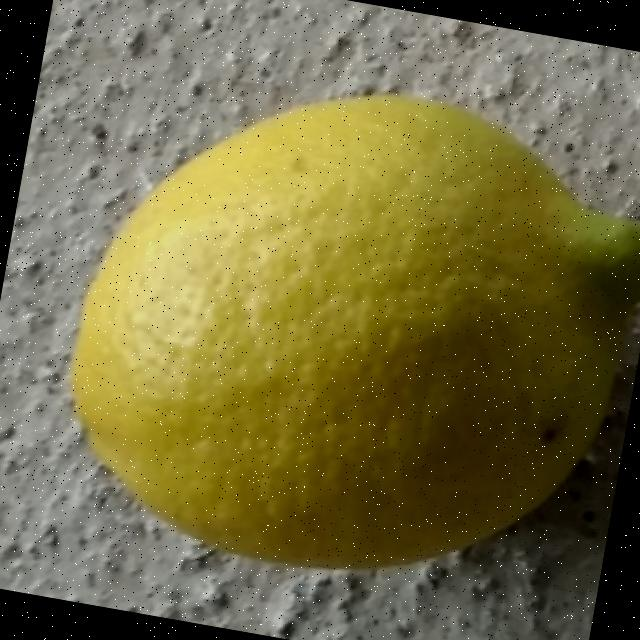Lemon: (41, 42, 640, 619)
